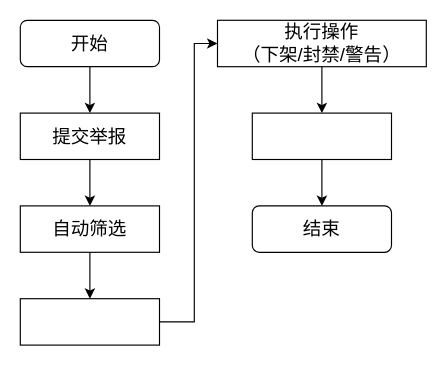
Some shapes in this 447 by 365 pixel diagram are drawn without their labels. The centre of each missing label's shape, as x and y in pixels:
分配审核任务到管理员: (89,321)
支持申诉: (321,136)
